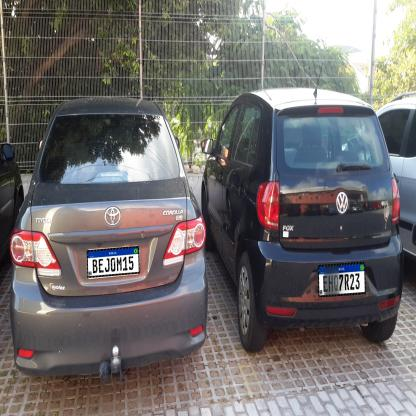PlacaM: (86, 246, 140, 278), (318, 262, 366, 297)
